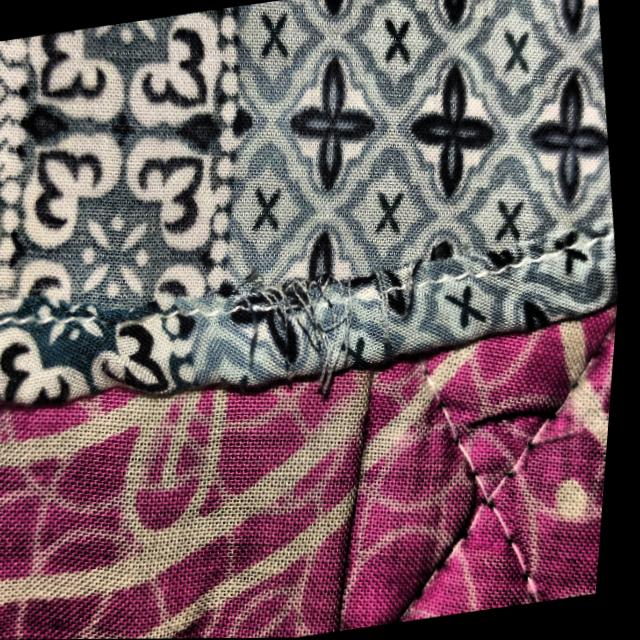Stitch: (154, 219, 442, 373)
